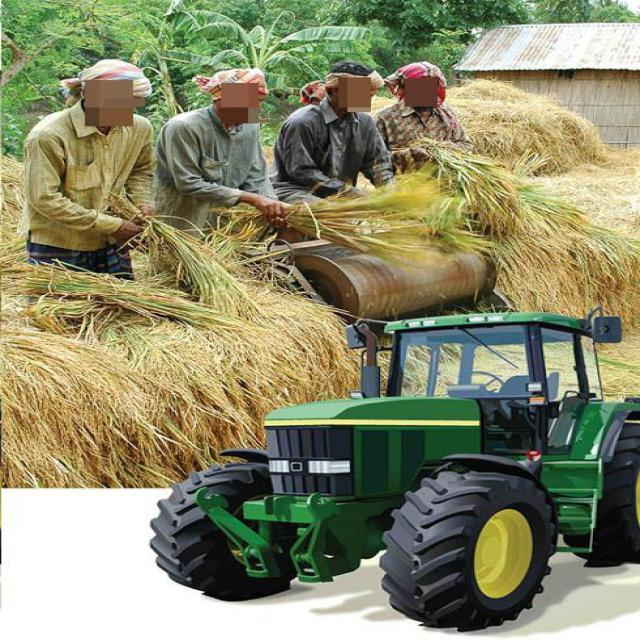Tratores - v5 YOLO V8L 2024-11-13: (153, 313, 640, 630)
